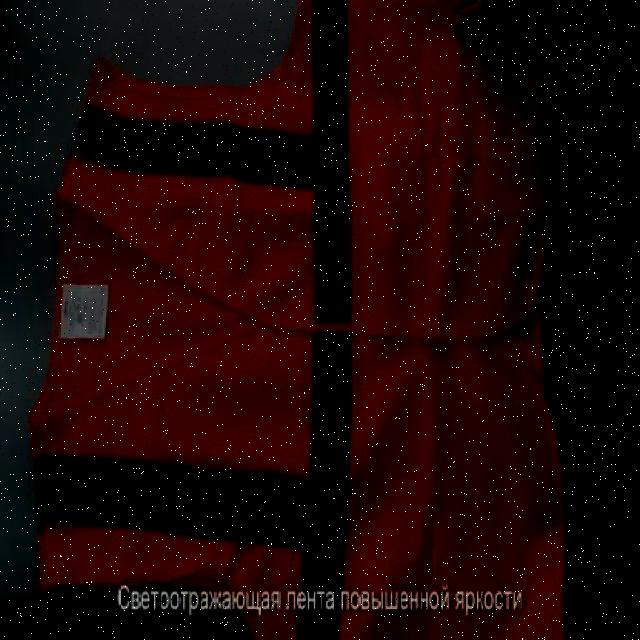Mask: (27, 0, 569, 638)
